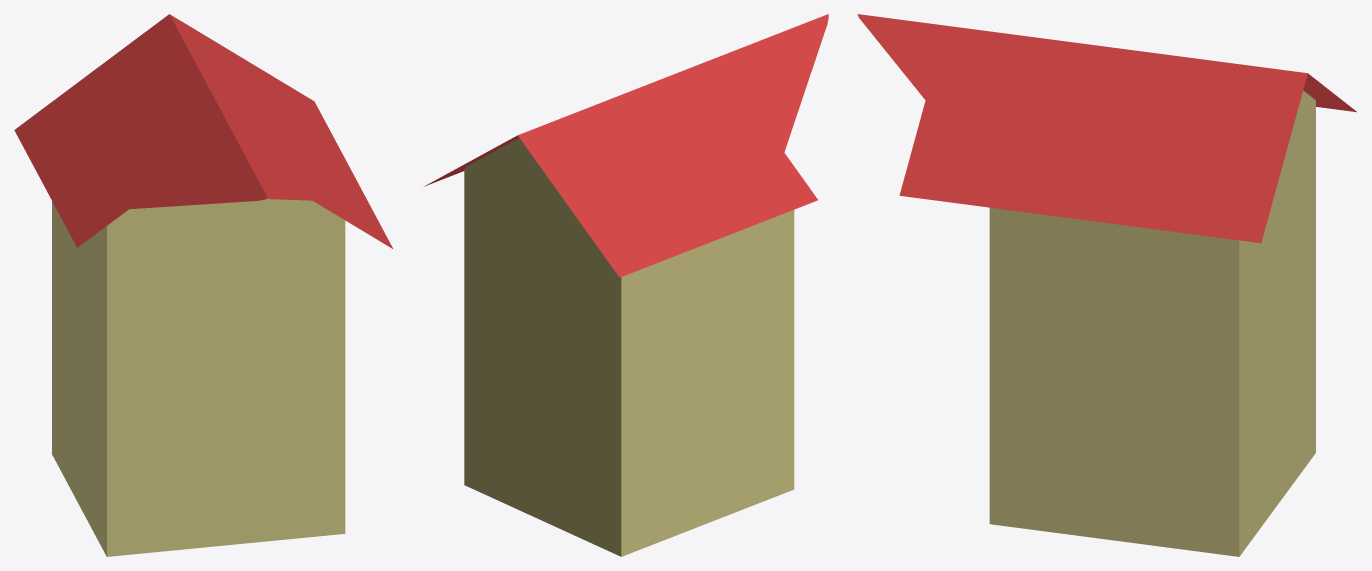
3 renders of one model, left to right at view 1: azimuth 30°, elevation 25°; view 2: azimuth 150°, elevation 25°; view 3: azimuth 270°, elevation 25°, orthographic. The views are drawn at different scales.
Size of the model in its own units: 9 by 11.27 by 10.89.
